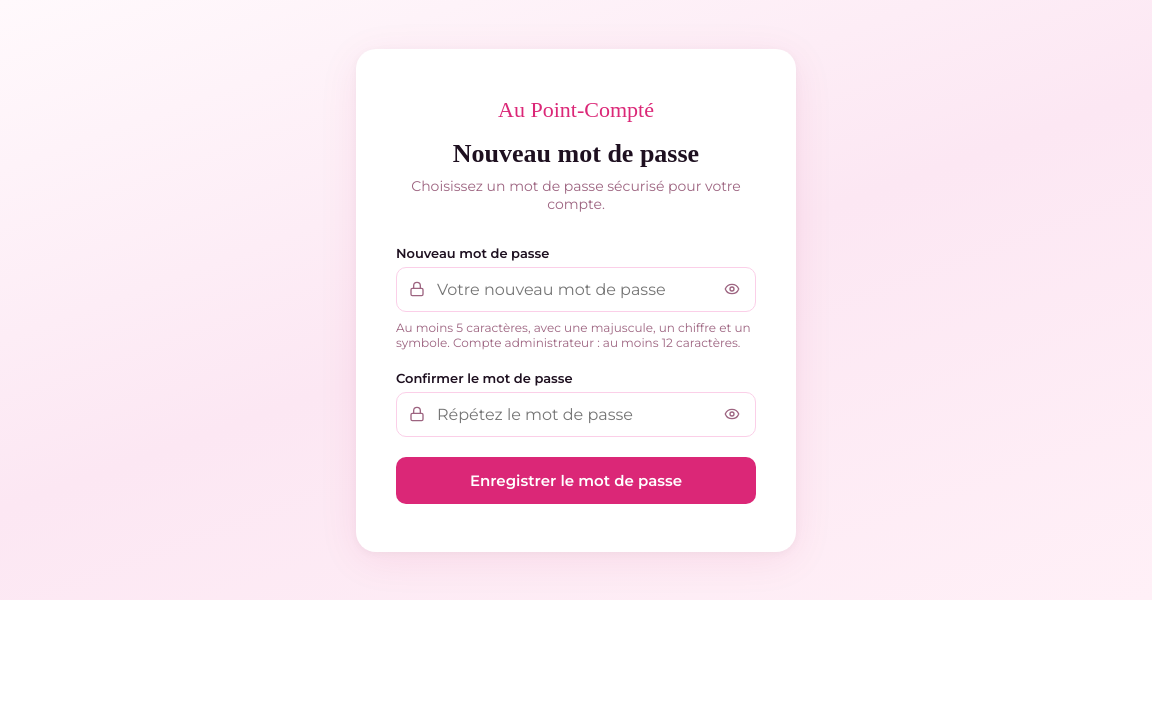
Test: ResetPassword › lien expiré : message du lien et nouvelle demande proposée
In the password field labelled "Nouveau mot de passe": (576, 289) [396,266,756,312], type "PointCompte2026!"
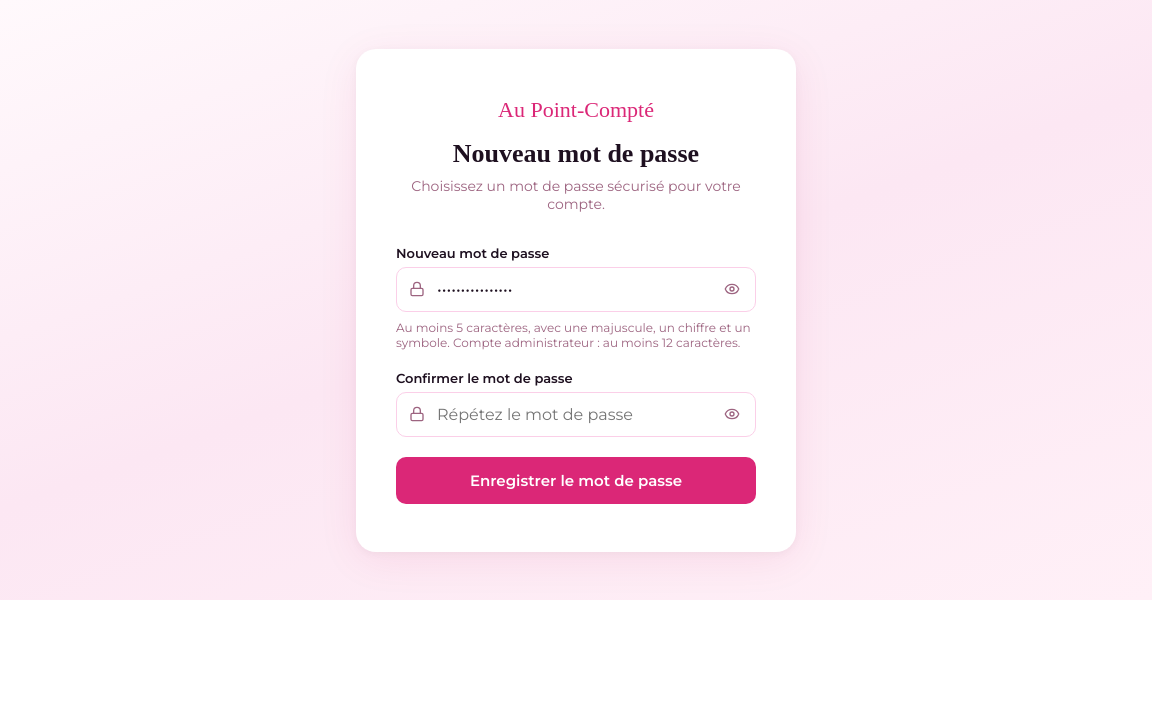
In the password field labelled "Confirmer le mot de passe": (576, 414) [396,392,756,436], type "PointCompte2026!"
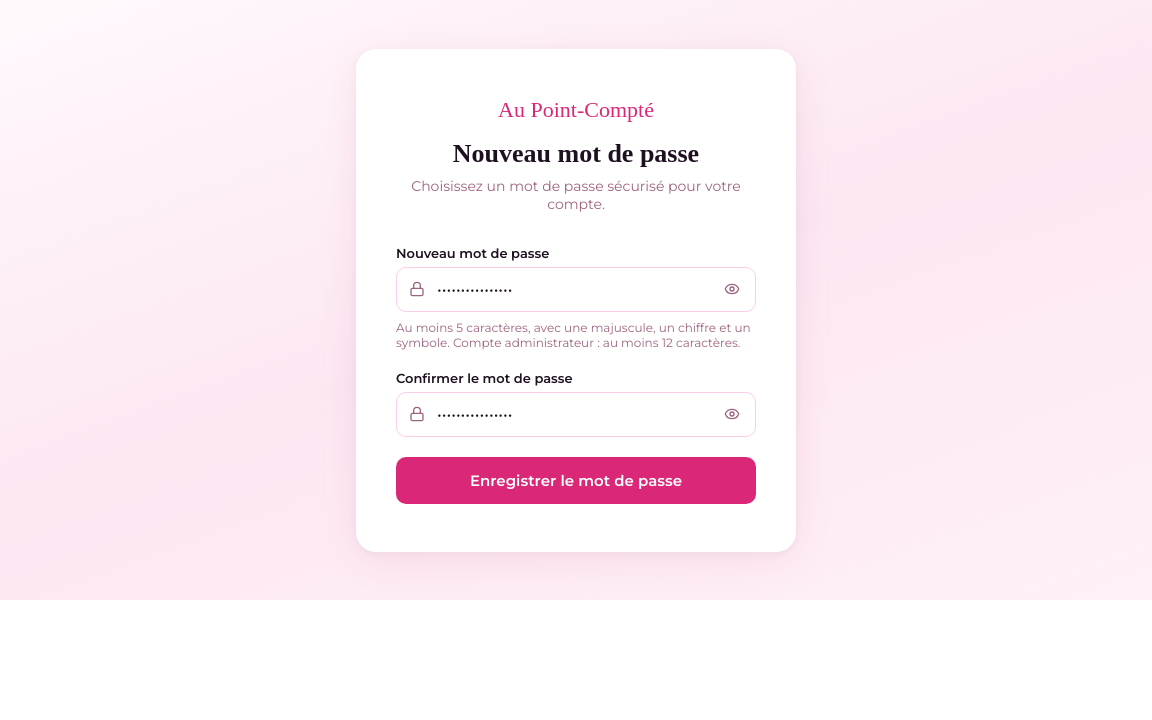
Click the button "Enregistrer le mot de passe": (576, 480) [396,456,756,504]
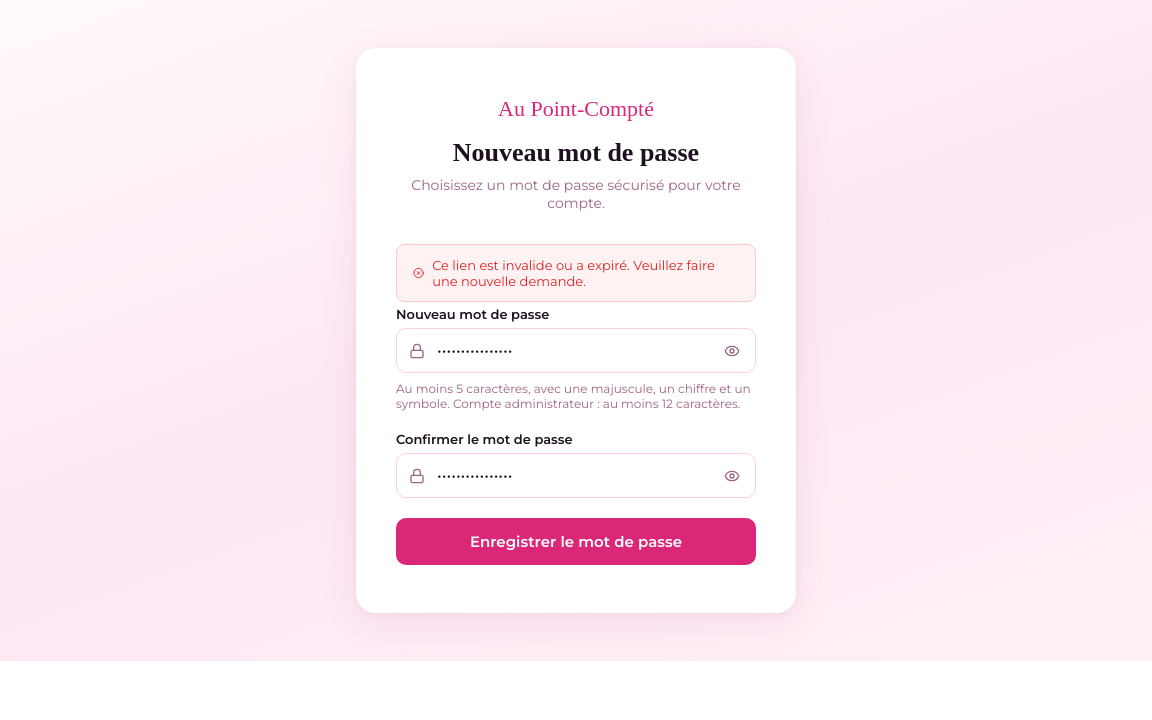
Expected: the text "Ce lien est invalide ou a expiré. Veuillez faire une nouvelle demande." is shown, [396,244,756,302]
